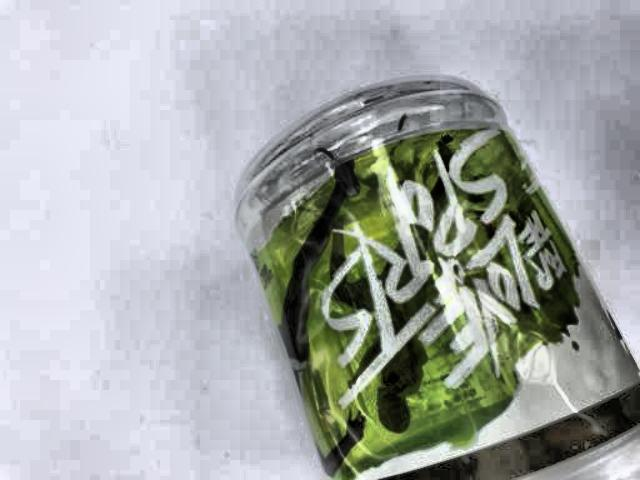Bottles: (176, 55, 639, 480)
